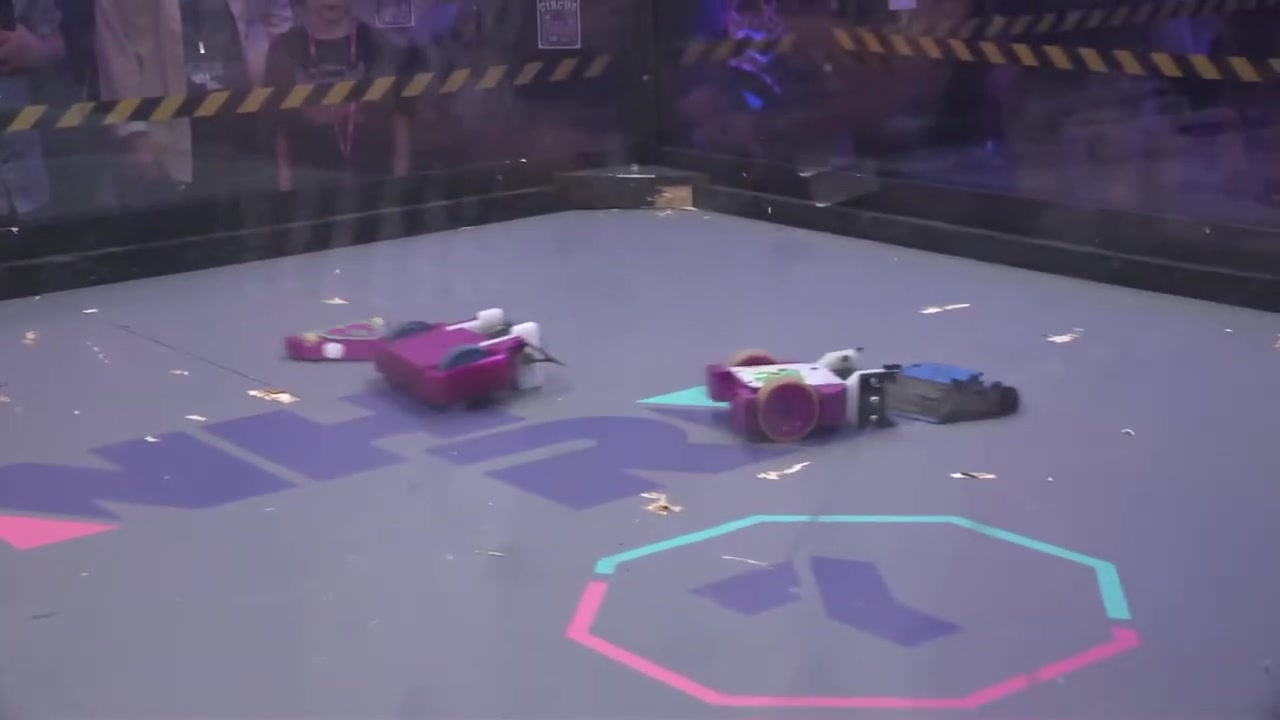combatbot: (369, 306, 566, 415), (710, 346, 896, 446)
minibot: (867, 360, 1022, 429), (285, 319, 386, 368)
